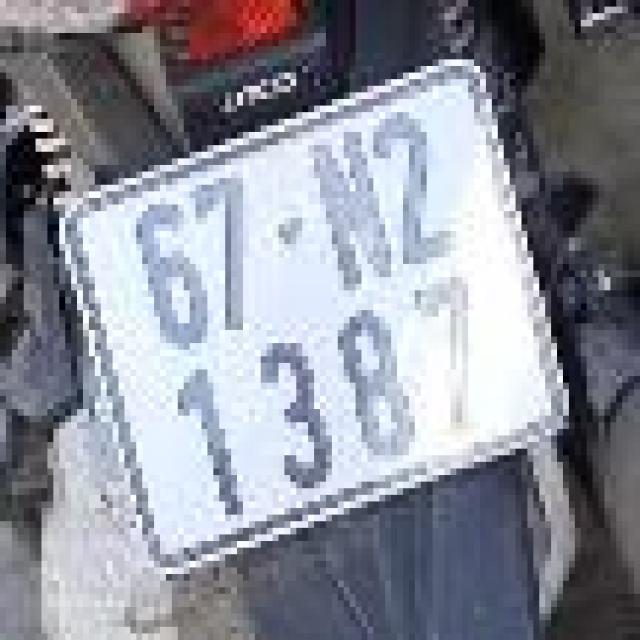1: (157, 351, 276, 535)
2: (366, 88, 481, 282)
3: (237, 323, 358, 504)
6: (118, 189, 222, 366)
7: (400, 259, 507, 449), (173, 159, 275, 345)
8: (321, 295, 436, 476)
N: (295, 111, 405, 302)
